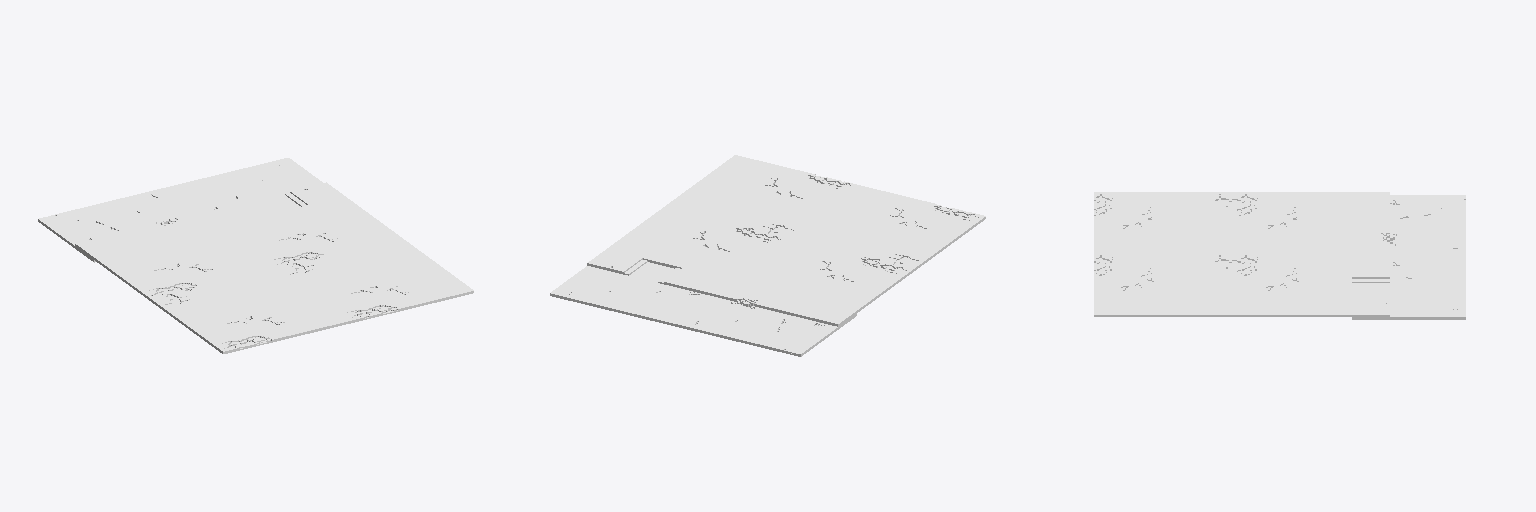
Rendered from Shop-4-GroundTile.obj.
3 renders of one model, left to right at view 1: azimuth 30°, elevation 25°; view 2: azimuth 150°, elevation 25°; view 3: azimuth 270°, elevation 25°, orthographic.
Visible parts, largest first — view 1: GroundTile; view 2: GroundTile; view 3: GroundTile.
Part boxes in pixels (x1,y1,x2,y2): GroundTile: (38,158,473,353); GroundTile: (550,155,985,356); GroundTile: (1094,192,1465,319).
Size of the model in its own units: 20 by 0.4 by 25.6.